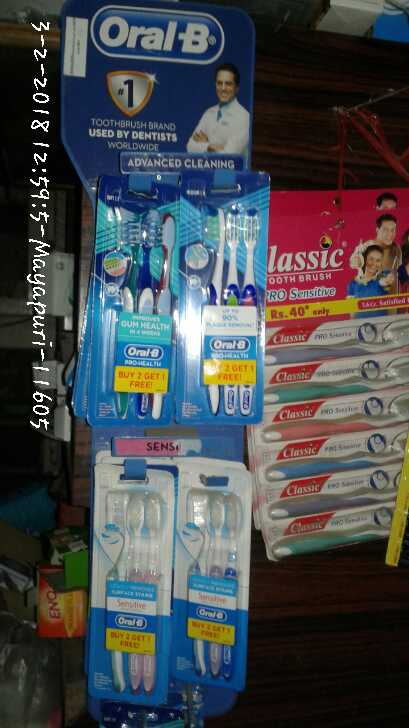oralb: (93, 206, 181, 425), (184, 194, 260, 424), (94, 486, 161, 692), (174, 487, 239, 680)
